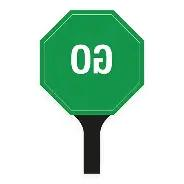Go: (1, 0, 184, 183), (41, 10, 144, 114)
